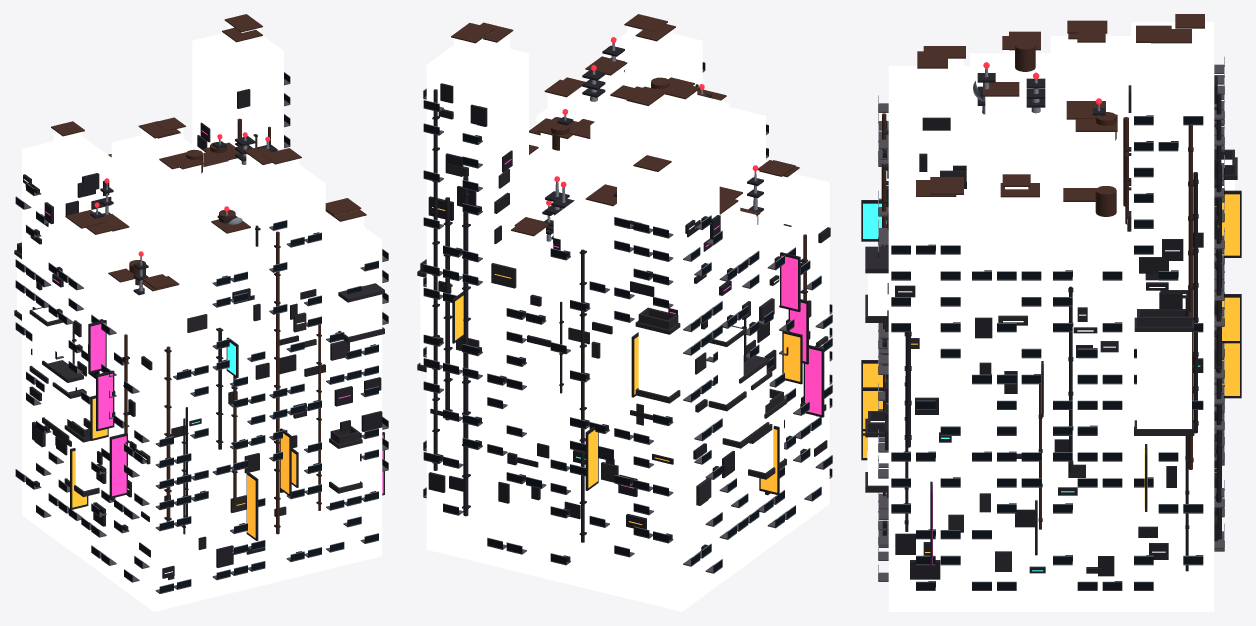
File: kowloon.glb
The picture shows the model from 3 angles, left to right: view 1: azimuth 30°, elevation 25°; view 2: azimuth 150°, elevation 25°; view 3: azimuth 270°, elevation 25°; orthographic projection. The views are drawn at different scales.
Parts seen in each view (by area): view 1: facade_concrete, facade_brick, metal_dark, glass_dark, rust, concrete_dark, concrete, metal_light, neon_magenta, neon_amber; view 2: facade_concrete, facade_brick, metal_dark, glass_dark, rust, concrete_dark, concrete, metal_light, neon_amber, neon_magenta; view 3: facade_concrete, metal_dark, facade_brick, glass_dark, rust, concrete, concrete_dark, neon_amber, metal_light, neon_cyan.
Part boxes in pixels (box(x1,y1,x2,y2)): facade_concrete: box(17, 33, 382, 611); facade_brick: box(22, 22, 382, 539); metal_dark: box(23, 89, 384, 578); glass_dark: box(15, 73, 388, 592); rust: box(51, 14, 366, 534); concrete_dark: box(14, 135, 384, 579); concrete: box(15, 79, 388, 593); metal_light: box(16, 72, 388, 586); neon_magenta: box(45, 130, 383, 517); neon_amber: box(72, 398, 296, 538); facade_concrete: box(426, 32, 829, 596); facade_brick: box(420, 26, 796, 611); metal_dark: box(428, 45, 830, 562); glass_dark: box(423, 63, 832, 572); rust: box(451, 14, 806, 300); concrete_dark: box(417, 164, 828, 505); concrete: box(423, 69, 832, 573); metal_light: box(423, 43, 832, 565); neon_amber: box(432, 207, 800, 524); neon_magenta: box(504, 159, 821, 488); facade_concrete: box(888, 36, 1234, 611); metal_dark: box(861, 73, 1241, 586); facade_brick: box(868, 22, 1214, 485); glass_dark: box(878, 65, 1224, 589); rust: box(881, 14, 1204, 529); concrete: box(878, 64, 1224, 590); concrete_dark: box(865, 149, 1237, 571); neon_amber: box(863, 194, 1239, 552); metal_light: box(878, 56, 1224, 582); neon_cyan: box(863, 203, 1200, 571).
Size of the model in its own units: 40 by 65.17 by 40.
